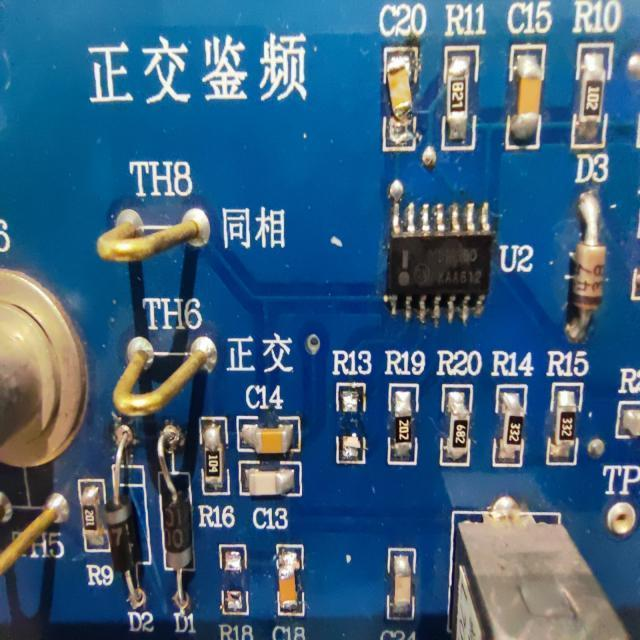Missing component: (328, 342, 374, 472), (216, 540, 257, 640)
